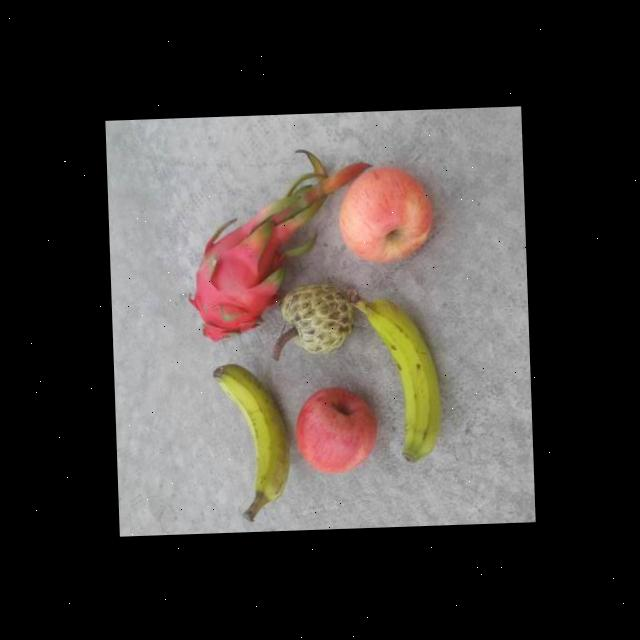Sakya fruit: (280, 281, 352, 353)
apple: (338, 160, 432, 261), (291, 385, 378, 468)
banana: (360, 297, 444, 465), (208, 360, 290, 506)
pitaya: (189, 220, 282, 338)
